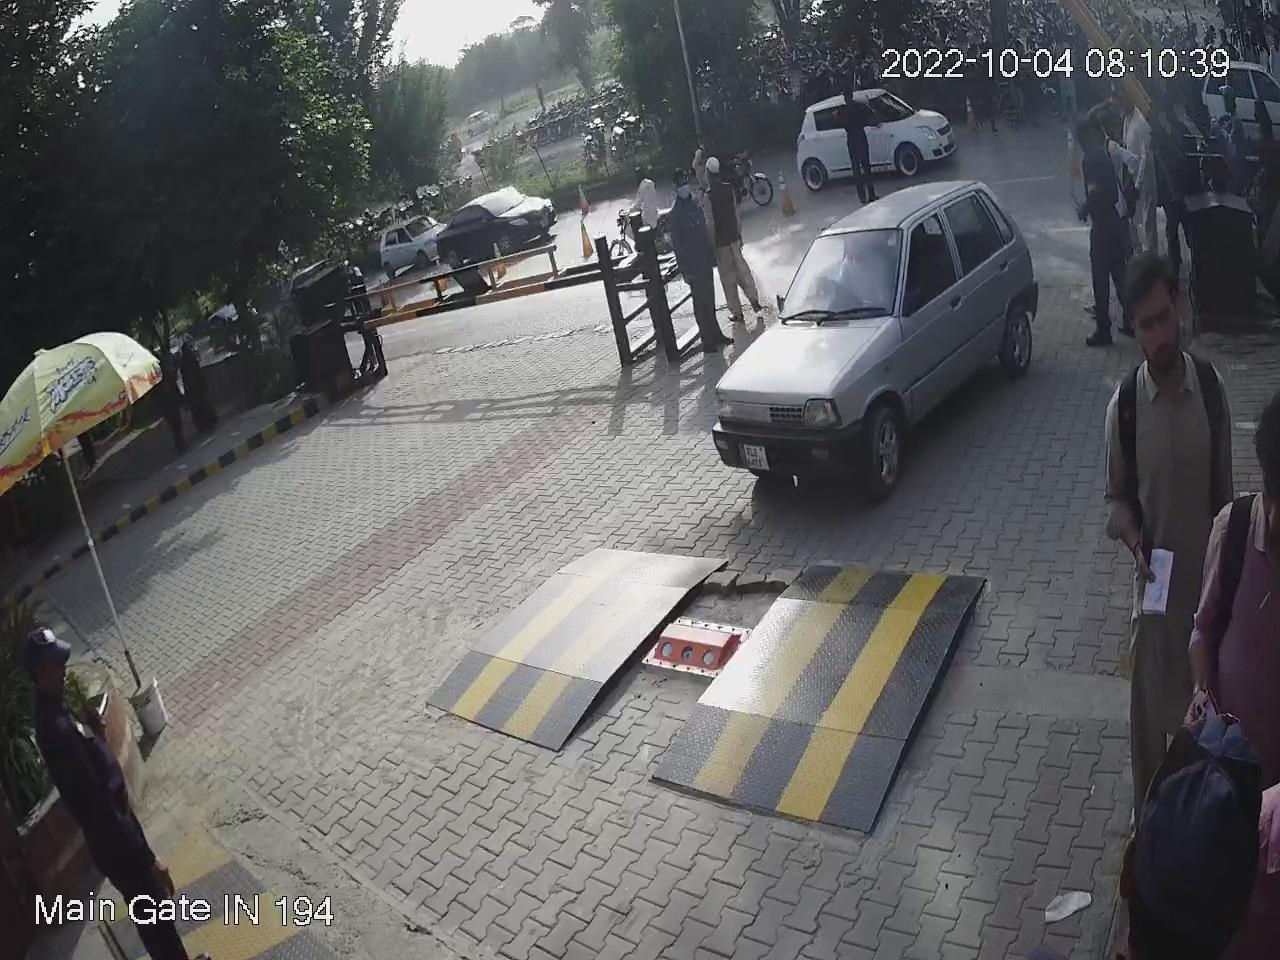windshield: (768, 220, 918, 338)
